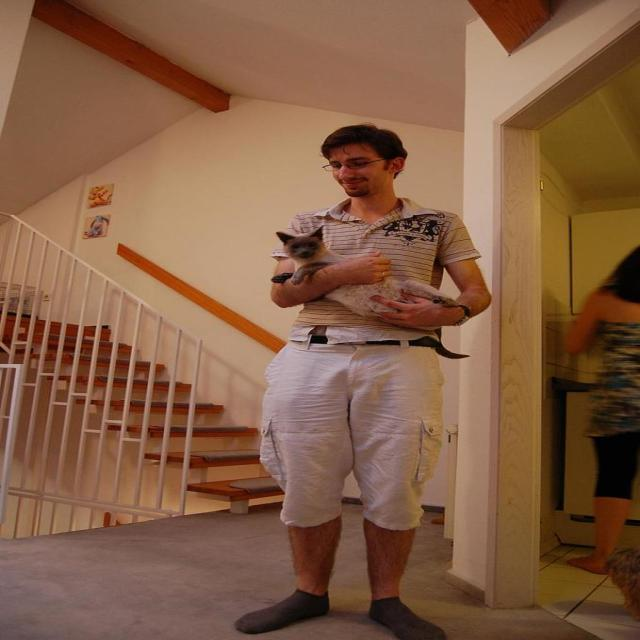Cat: (271, 222, 460, 308)
